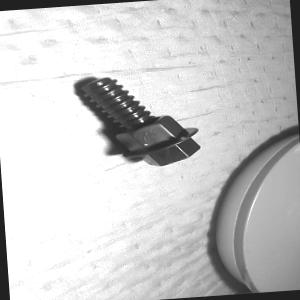parafuso: (80, 70, 202, 171)
